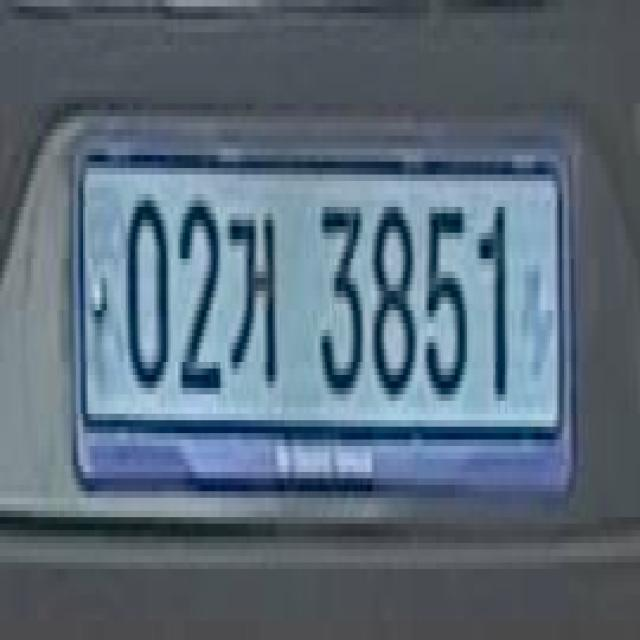EV_plate: (68, 123, 577, 533)
